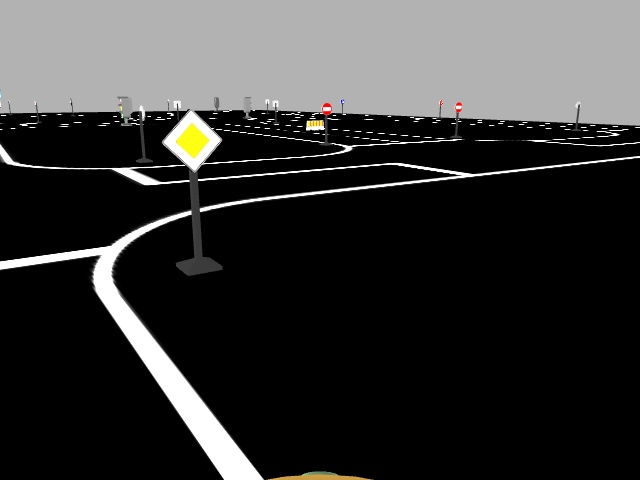ClosedRoadStand: (303, 118, 324, 131)
NoEntry: (319, 101, 332, 115), (452, 100, 464, 113)
Priority: (157, 110, 223, 173)
